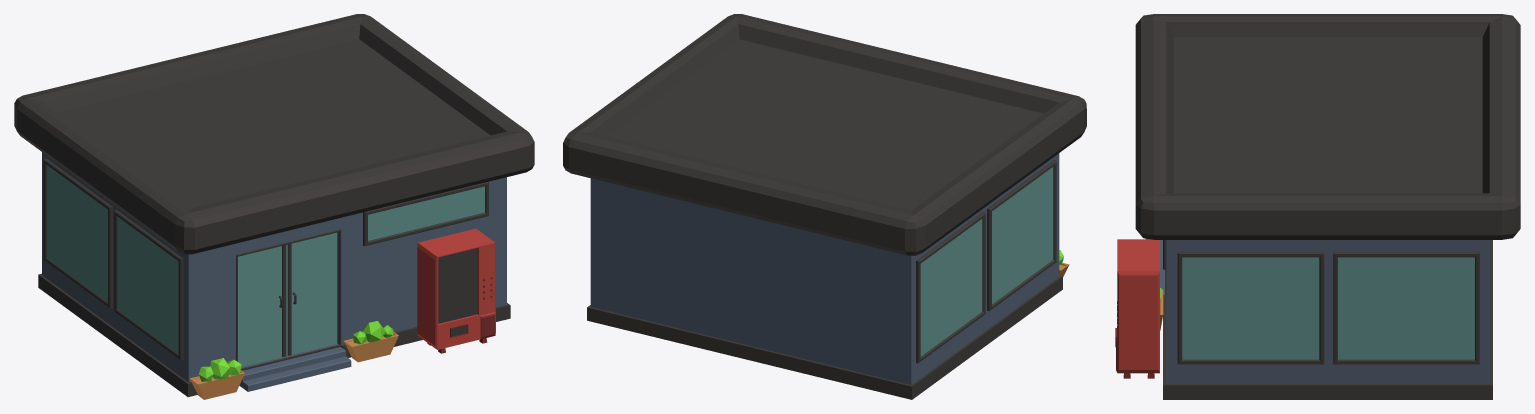
Rendered from Loja.M.fbx.
3 renders of one model, left to right at view 1: azimuth 30°, elevation 25°; view 2: azimuth 150°, elevation 25°; view 3: azimuth 270°, elevation 25°, orthographic. The views are drawn at different scales.
Parts seen in each view (by area): view 1: Loja.M; view 2: Loja.M; view 3: Loja.M.
Boxes of the visible parts, left/top/right/bottom form: Loja.M: left=14, top=14, right=534, bottom=399; Loja.M: left=563, top=14, right=1086, bottom=399; Loja.M: left=1115, top=14, right=1520, bottom=399.
Size of the model in its own units: 1229 by 620 by 1095.
